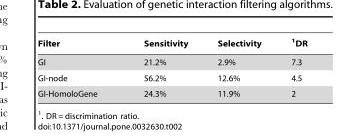table: (37, 37, 306, 97)
table column: (119, 37, 202, 97), (37, 37, 119, 97), (202, 37, 275, 97), (275, 37, 306, 97)
table column header: (37, 37, 306, 52)
table row: (37, 52, 306, 69), (37, 69, 306, 85), (37, 37, 306, 52), (37, 85, 306, 97)
